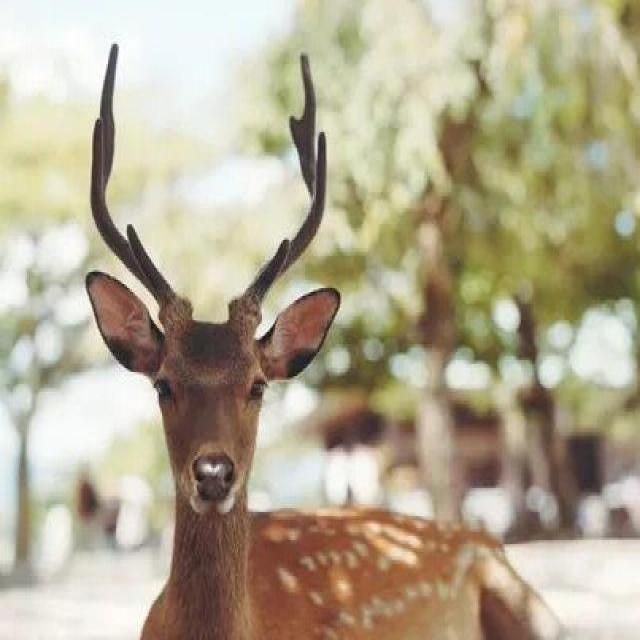deer: (75, 109, 590, 640)
